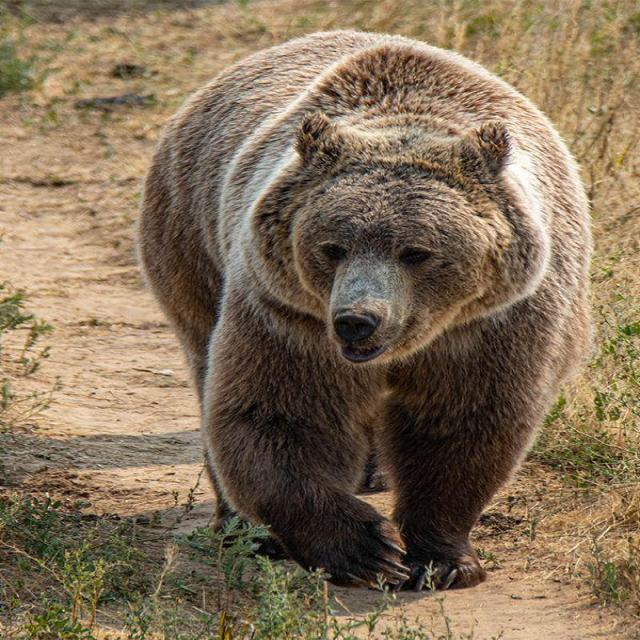Bear: (135, 30, 596, 594)
